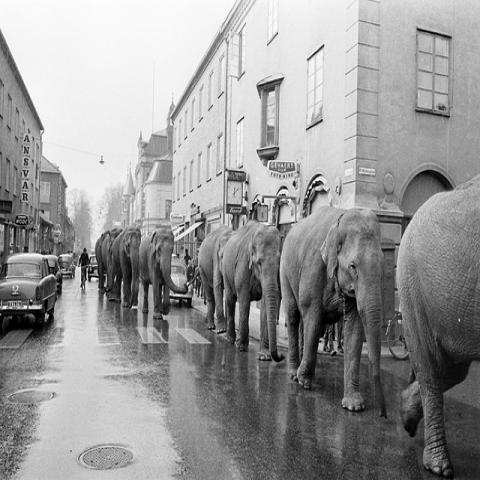car: (1, 255, 56, 326), (169, 255, 193, 306), (45, 255, 63, 291), (88, 255, 106, 283), (58, 255, 76, 279), (67, 249, 79, 262)
